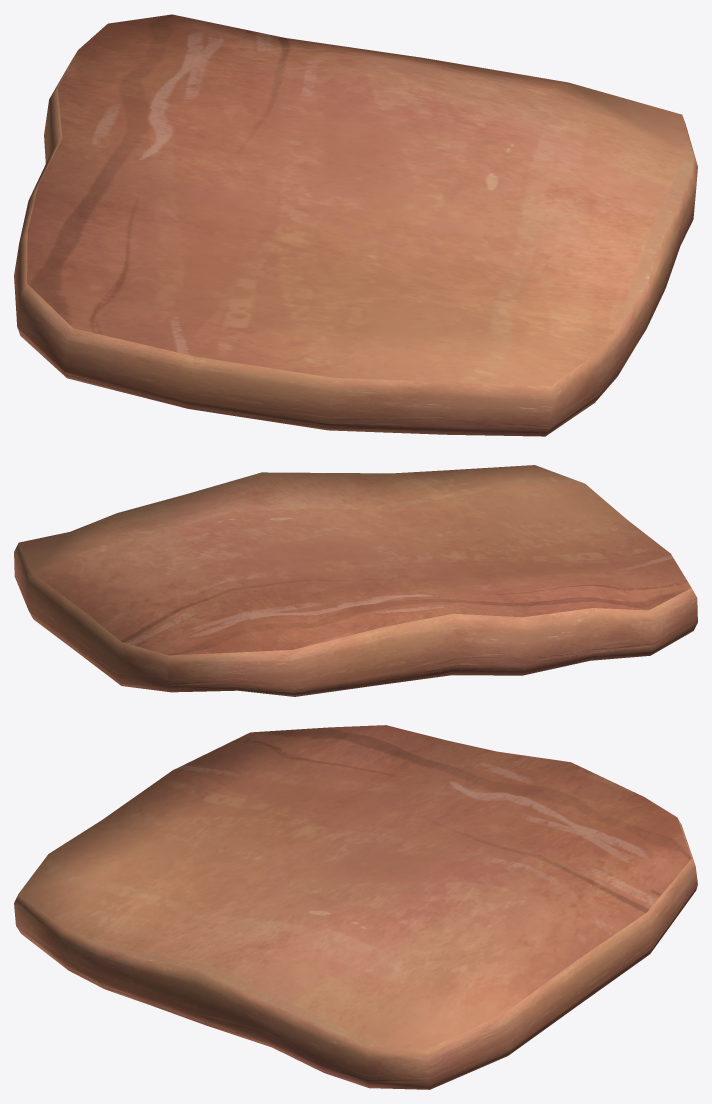
The model's file is flat_rock_1_001.fbx.
3 views of the same model, one above another, from view 1: azimuth 30°, elevation 25°; view 2: azimuth 150°, elevation 25°; view 3: azimuth 270°, elevation 25° (orthographic). The views are drawn at different scales.
Parts seen in each view (by area): view 1: flat rock 1.001; view 2: flat rock 1.001; view 3: flat rock 1.001.
Part boxes in pixels (left/top/right/bottom): flat rock 1.001: left=14, top=14, right=697, bottom=436; flat rock 1.001: left=14, top=465, right=697, bottom=696; flat rock 1.001: left=14, top=725, right=697, bottom=1089.
Size of the model in its own units: 2447 by 490 by 2439.
